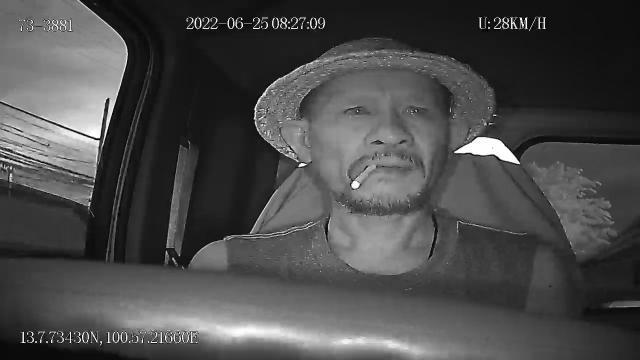SafeDriving: (337, 95, 379, 122), (396, 94, 434, 123)
Smoking: (350, 162, 378, 192)
